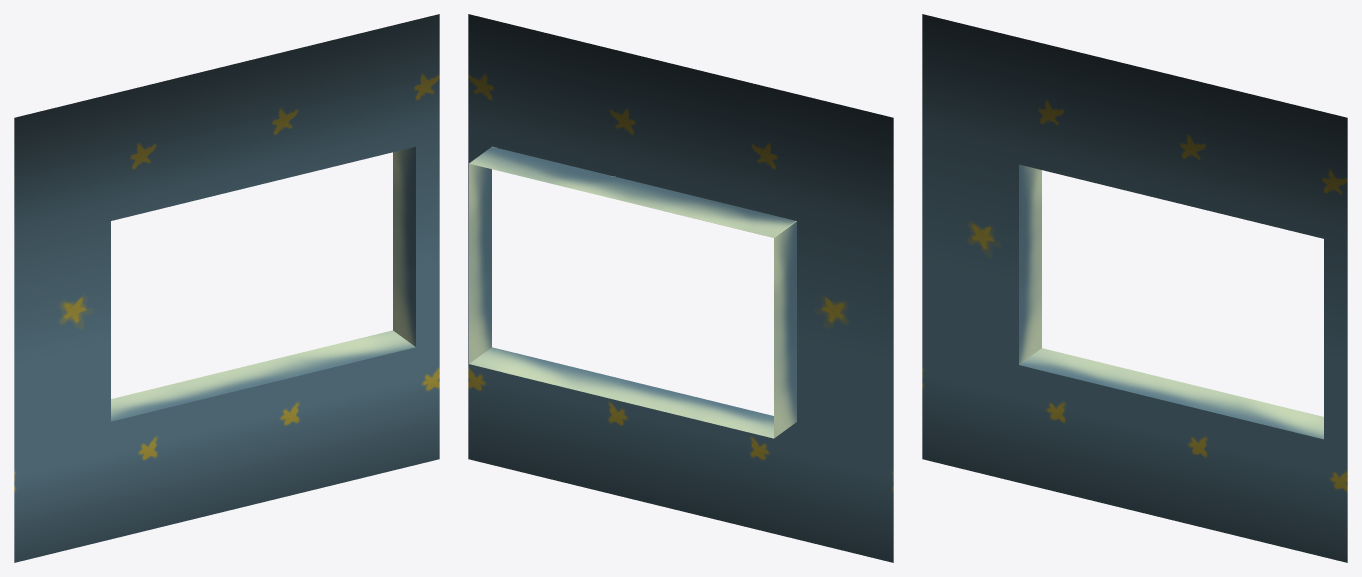
File: walls_paty_window.fbx
3 renders of one model, left to right at view 1: azimuth 30°, elevation 25°; view 2: azimuth 150°, elevation 25°; view 3: azimuth 330°, elevation 25°, orthographic.
Parts seen in each view (by area): view 1: walls_interior.002; view 2: walls_interior.002; view 3: walls_interior.002.
Boxes of the visible parts, left/top/right/bottom form: walls_interior.002: left=14, top=14, right=439, bottom=562; walls_interior.002: left=468, top=14, right=893, bottom=562; walls_interior.002: left=922, top=14, right=1347, bottom=562.
Bounding box in the file's own units: 3 × 3 × 0.2824.
1 material, 1 textured.
